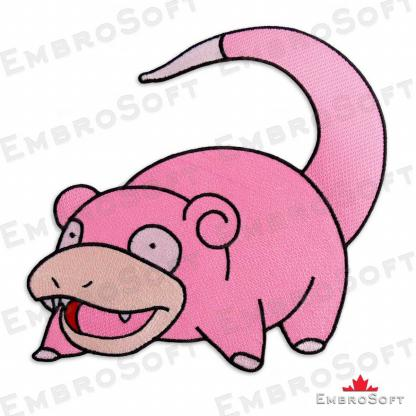Slowpoke: (19, 17, 381, 369)
